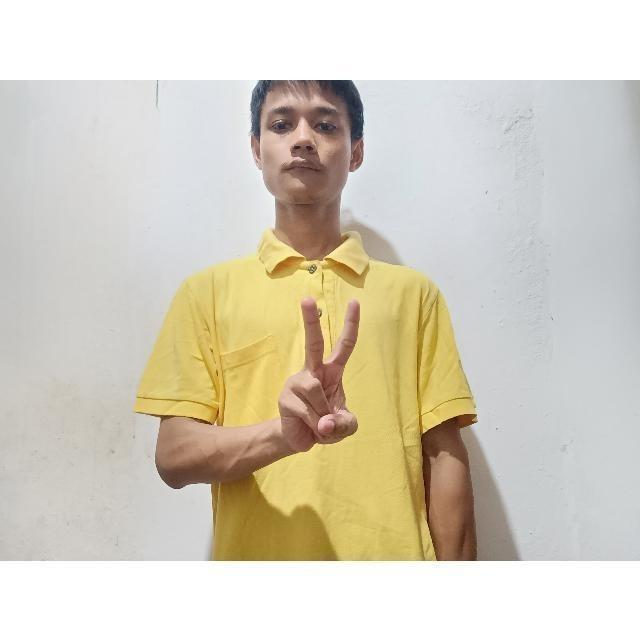V: (266, 289, 378, 472)
